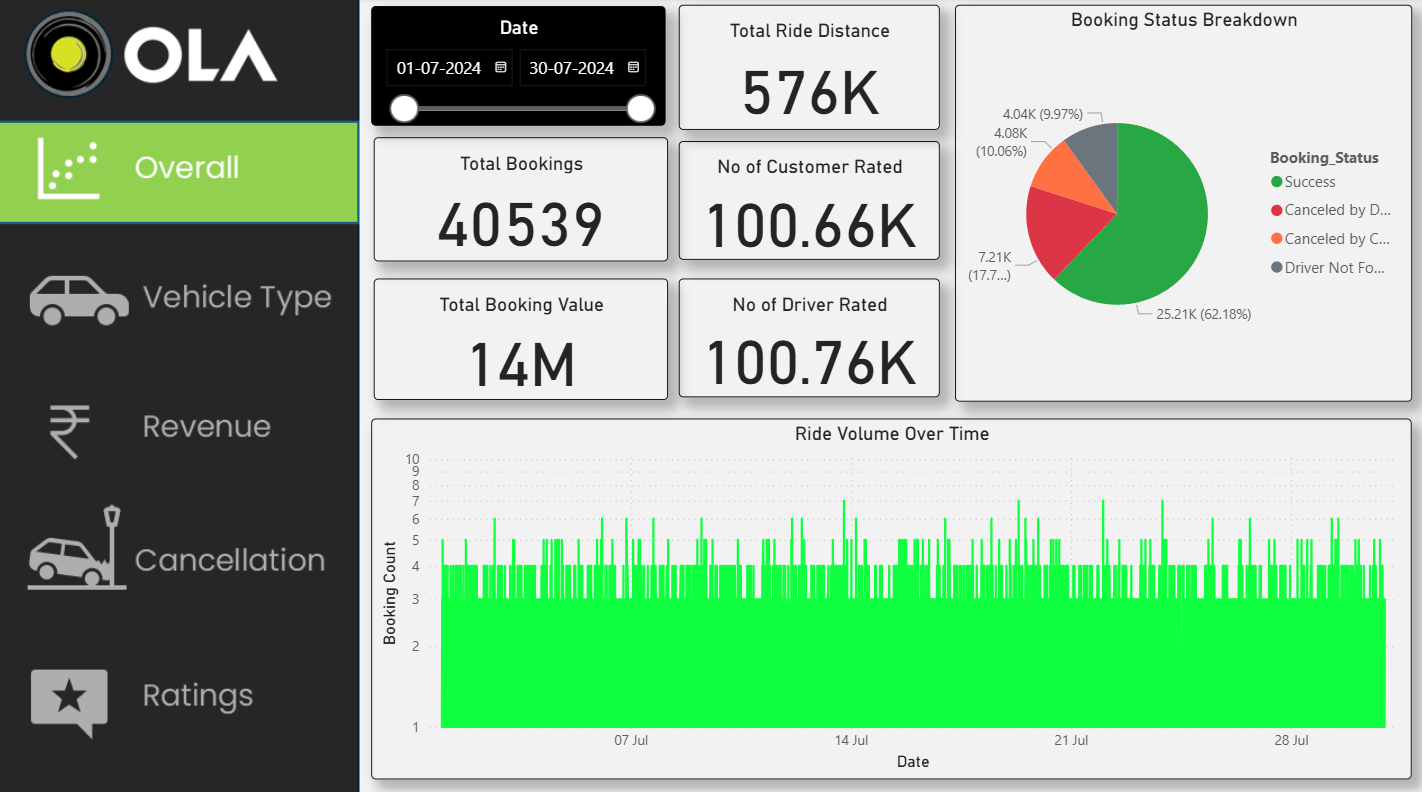

What the dashboard file says about the page in this screenshot:
{"tool":"powerbi","page":{"name":"Overall","canvas":[1280,720],"ordinal":0},"visuals":[{"type":"actionButton","box":[0,222.1,322.7,90.8],"z":0},{"type":"actionButton","box":[1.2,341.1,322.7,90.8],"z":1000},{"type":"actionButton","box":[0,451.5,322.7,90.8],"z":2000},{"type":"actionButton","box":[1.2,579.1,322.7,90.8],"z":3000},{"type":"lineChart","title":"Ride Volume Over Time","fields":{"Y":["CountNonNull(Bookings-40000-Rows.Booking_ID)"],"Category":["Bookings-40000-Rows.Date"]},"box":[334.8,376,924.9,321.1],"z":4000},{"type":"pieChart","title":"Booking Status Breakdown","fields":{"Category":["Bookings-40000-Rows.Booking_Status"],"Y":["CountNonNull(Bookings-40000-Rows.Booking_Status)"]},"box":[853.5,8.2,406.2,352.7],"z":5000},{"type":"slicer","title":"Date","fields":{"Values":["Bookings-40000-Rows.Date"]},"box":[335,8.6,261.4,106.7],"z":6000},{"type":"card","title":"Total Bookings","fields":{"Values":["Count(Bookings-40000-Rows.Booking_ID)"]},"box":[336.2,125.2,261.4,110.4],"z":7000},{"type":"card","title":"Total Booking Value","fields":{"Values":["Sum(Bookings-40000-Rows.Booking_Value)"]},"box":[336.2,251.5,261.4,108],"z":8000},{"type":"card","title":"Total Ride Distance","fields":{"Values":["Sum(Bookings-40000-Rows.Ride_Distance)"]},"box":[607.9,8.2,231.9,111.1],"z":9000},{"type":"card","title":"No of  Customer Rated","fields":{"Values":["Sum(Bookings-40000-Rows.Customer_Rating)"]},"box":[607.9,129,231.9,105.7],"z":10000},{"type":"card","title":"No of Driver Rated","fields":{"Values":["Sum(Bookings-40000-Rows.Driver_Ratings)"]},"box":[607.9,251.1,231.9,105.7],"z":11000}]}

Visuals, with their boxes in screenshot pixels (x1, y1, x2, y2), scaled from the page's 1280x720 canvas onto the 1422x792 screenshot:
actionButton: x1=0 y1=244 x2=358 y2=344
actionButton: x1=1 y1=375 x2=360 y2=475
actionButton: x1=0 y1=497 x2=358 y2=597
actionButton: x1=1 y1=637 x2=360 y2=737
"Ride Volume Over Time" lineChart: x1=372 y1=414 x2=1399 y2=767
"Booking Status Breakdown" pieChart: x1=948 y1=9 x2=1399 y2=397
"Date" slicer: x1=372 y1=9 x2=663 y2=127
"Total Bookings" card: x1=373 y1=138 x2=664 y2=259
"Total Booking Value" card: x1=373 y1=277 x2=664 y2=395
"Total Ride Distance" card: x1=675 y1=9 x2=933 y2=131
"No of  Customer Rated" card: x1=675 y1=142 x2=933 y2=258
"No of Driver Rated" card: x1=675 y1=276 x2=933 y2=392
